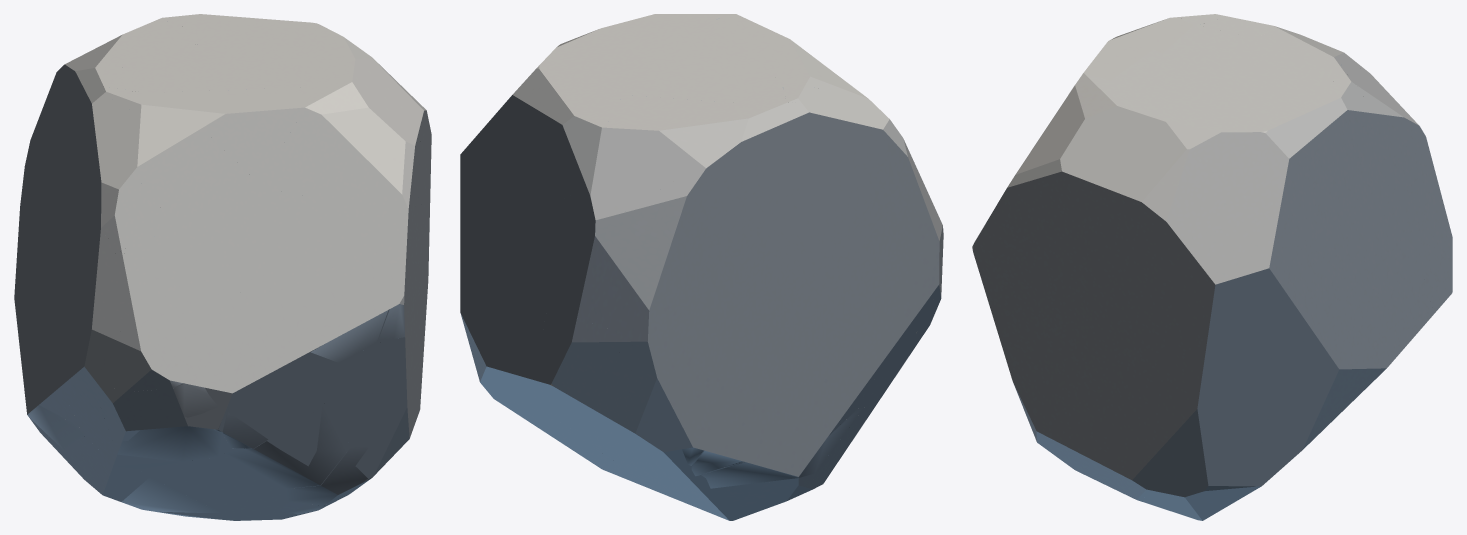
The model's file is stone.glb.
3 views of the same model, side by side, from view 1: azimuth 30°, elevation 25°; view 2: azimuth 150°, elevation 25°; view 3: azimuth 270°, elevation 25° (orthographic). The views are drawn at different scales.
Parts seen in each view (by area): view 1: origin, boulder_cell.033, boulder_cell.009, boulder_cell.019, boulder_cell.056, boulder_cell.015, boulder_cell.034, boulder_cell.058, boulder_cell.004, boulder_cell.055, boulder_cell.025, boulder_cell.029 (+16 smaller); view 2: origin, boulder_cell.056, boulder_cell.006, boulder_cell.054, boulder_cell.028, boulder_cell.025, boulder_cell.052, boulder_cell.001, boulder_cell.008, boulder_cell.019, boulder_cell.066, boulder_cell.050 (+11 smaller); view 3: origin, boulder_cell.054, boulder_cell.056, boulder_cell.037, boulder_cell.052, boulder_cell.003, boulder_cell.008, boulder_cell.033, boulder_cell.025, boulder_cell.053, boulder_cell.019, boulder_cell.051 (+8 smaller).
Part boxes in pixels (x1,y1,x2,y2): origin: [14, 14, 431, 520]; boulder_cell.033: [260, 80, 411, 198]; boulder_cell.009: [119, 106, 259, 244]; boulder_cell.019: [135, 91, 306, 183]; boulder_cell.056: [132, 37, 315, 92]; boulder_cell.015: [92, 382, 230, 461]; boulder_cell.034: [103, 270, 214, 391]; boulder_cell.058: [324, 332, 411, 447]; boulder_cell.004: [142, 457, 285, 517]; boulder_cell.055: [220, 406, 350, 488]; boulder_cell.025: [91, 19, 211, 69]; boulder_cell.029: [84, 253, 146, 383]; origin: [460, 14, 941, 520]; boulder_cell.056: [611, 28, 778, 102]; boulder_cell.006: [554, 130, 702, 211]; boulder_cell.054: [485, 232, 549, 379]; boulder_cell.028: [533, 295, 618, 403]; boulder_cell.025: [605, 95, 736, 140]; boulder_cell.052: [527, 85, 623, 218]; boulder_cell.001: [729, 85, 828, 280]; boulder_cell.008: [537, 189, 596, 284]; boulder_cell.019: [708, 14, 811, 83]; boulder_cell.066: [697, 403, 864, 489]; boulder_cell.050: [864, 296, 933, 411]; origin: [972, 16, 1446, 520]; boulder_cell.054: [1357, 222, 1433, 349]; boulder_cell.056: [1129, 29, 1280, 96]; boulder_cell.037: [972, 173, 1082, 293]; boulder_cell.052: [1272, 80, 1374, 198]; boulder_cell.003: [1035, 137, 1145, 253]; boulder_cell.008: [1373, 115, 1430, 224]; boulder_cell.033: [1017, 74, 1120, 183]; boulder_cell.025: [1251, 32, 1351, 85]; boulder_cell.053: [1116, 234, 1245, 364]; boulder_cell.019: [1083, 17, 1193, 80]; boulder_cell.051: [1197, 365, 1240, 484].
Bounding box in the file's own units: 1.32 × 1.34 × 1.4.
1 material, 1 textured.
